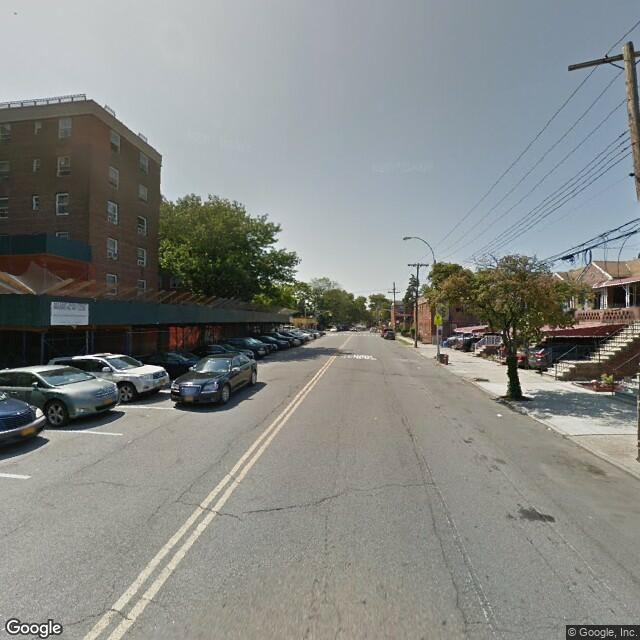litter: (495, 410, 502, 417), (545, 425, 551, 431)
